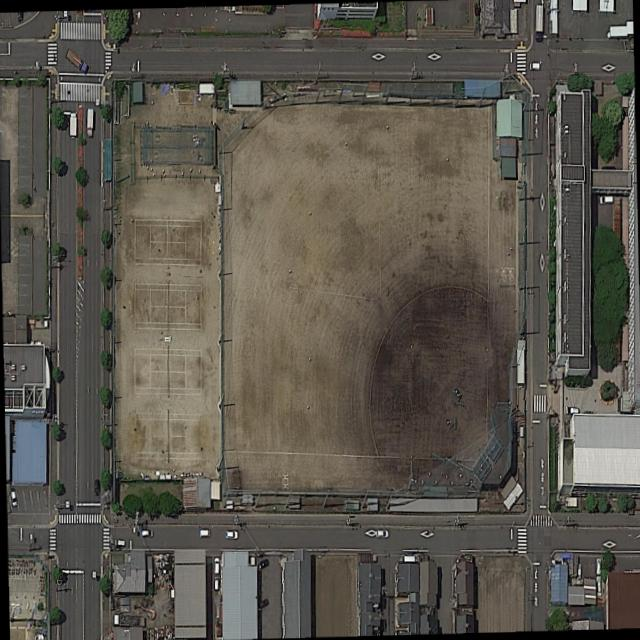large-vehicle: (64, 47, 88, 76), (534, 2, 543, 42), (68, 112, 76, 138), (85, 108, 92, 136)
small-vehicle: (255, 558, 268, 570), (8, 489, 16, 507), (257, 597, 268, 609), (224, 530, 237, 539), (212, 556, 218, 575), (565, 406, 577, 415), (528, 61, 539, 70), (198, 528, 209, 537), (114, 538, 124, 547), (376, 529, 387, 537), (595, 557, 600, 574), (140, 530, 152, 537), (212, 576, 218, 590), (94, 480, 98, 495)
